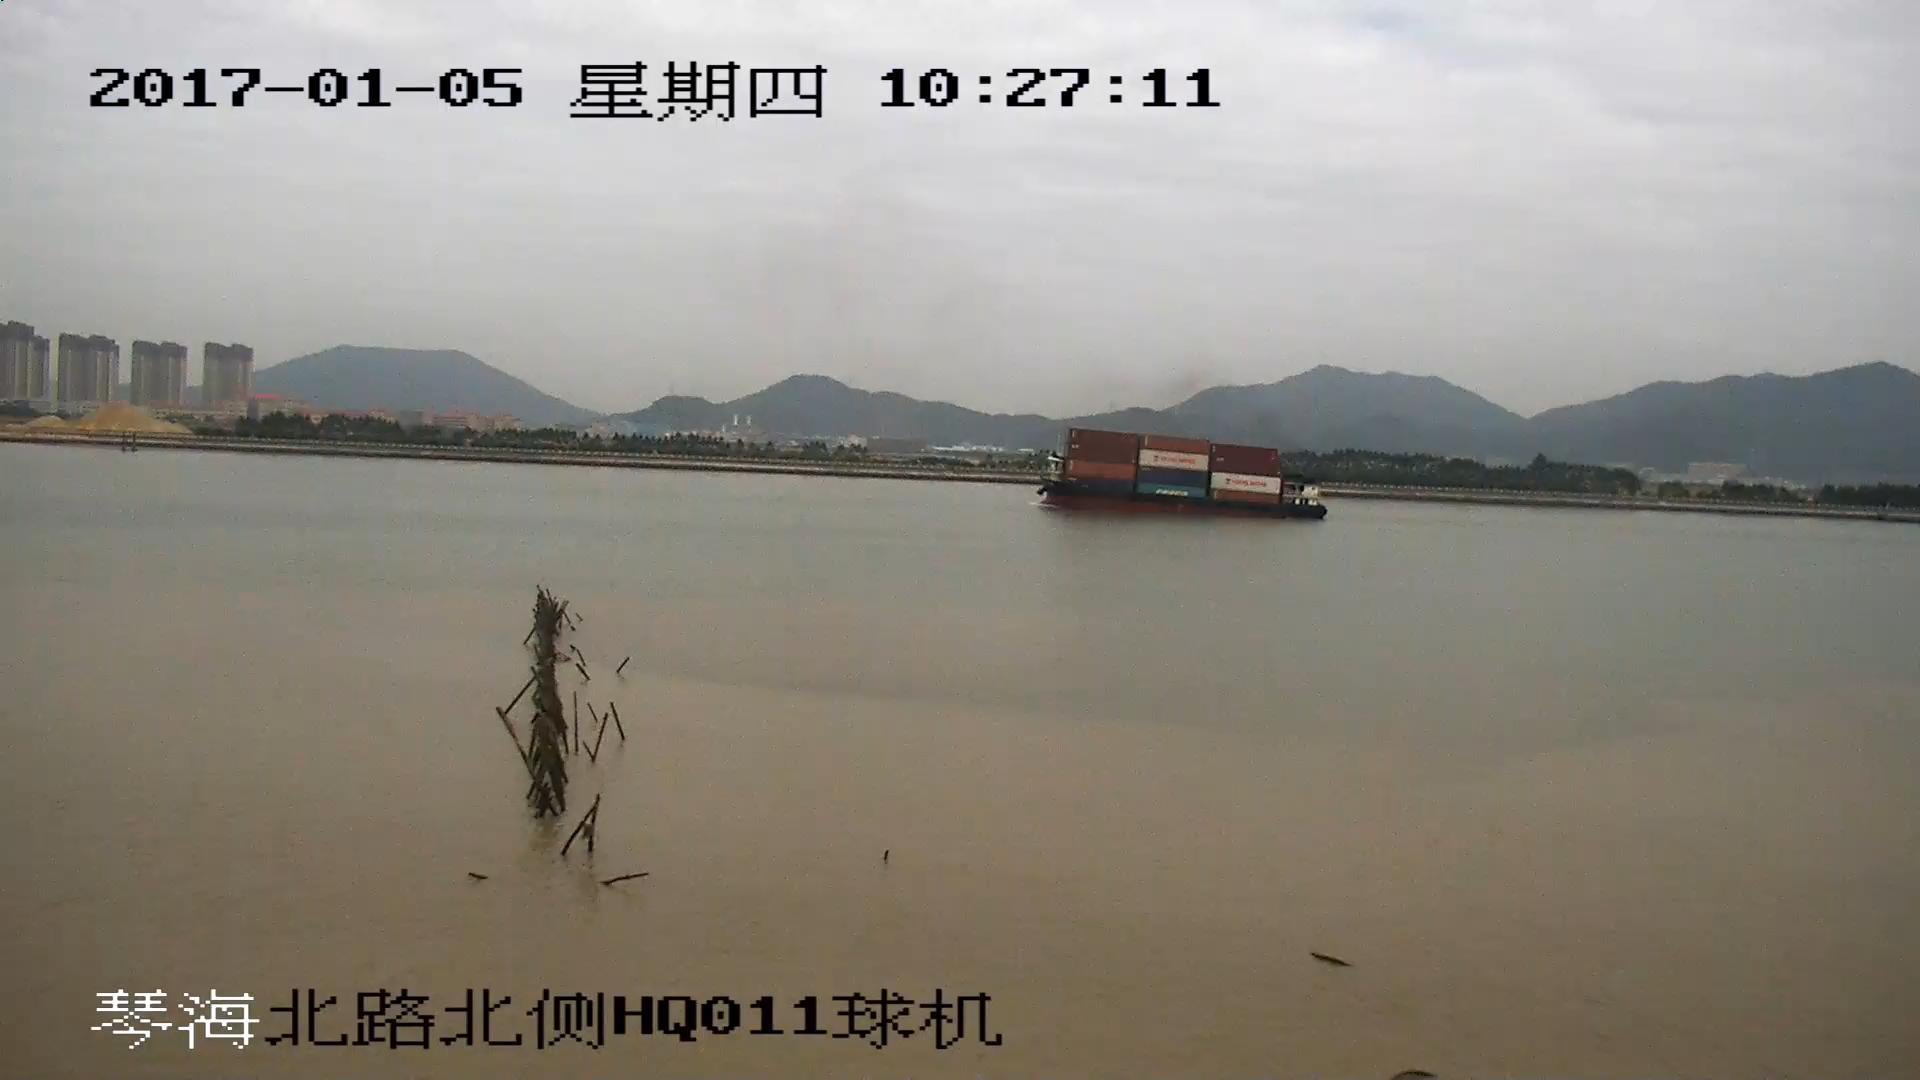Ship: (1039, 433, 1328, 522)
